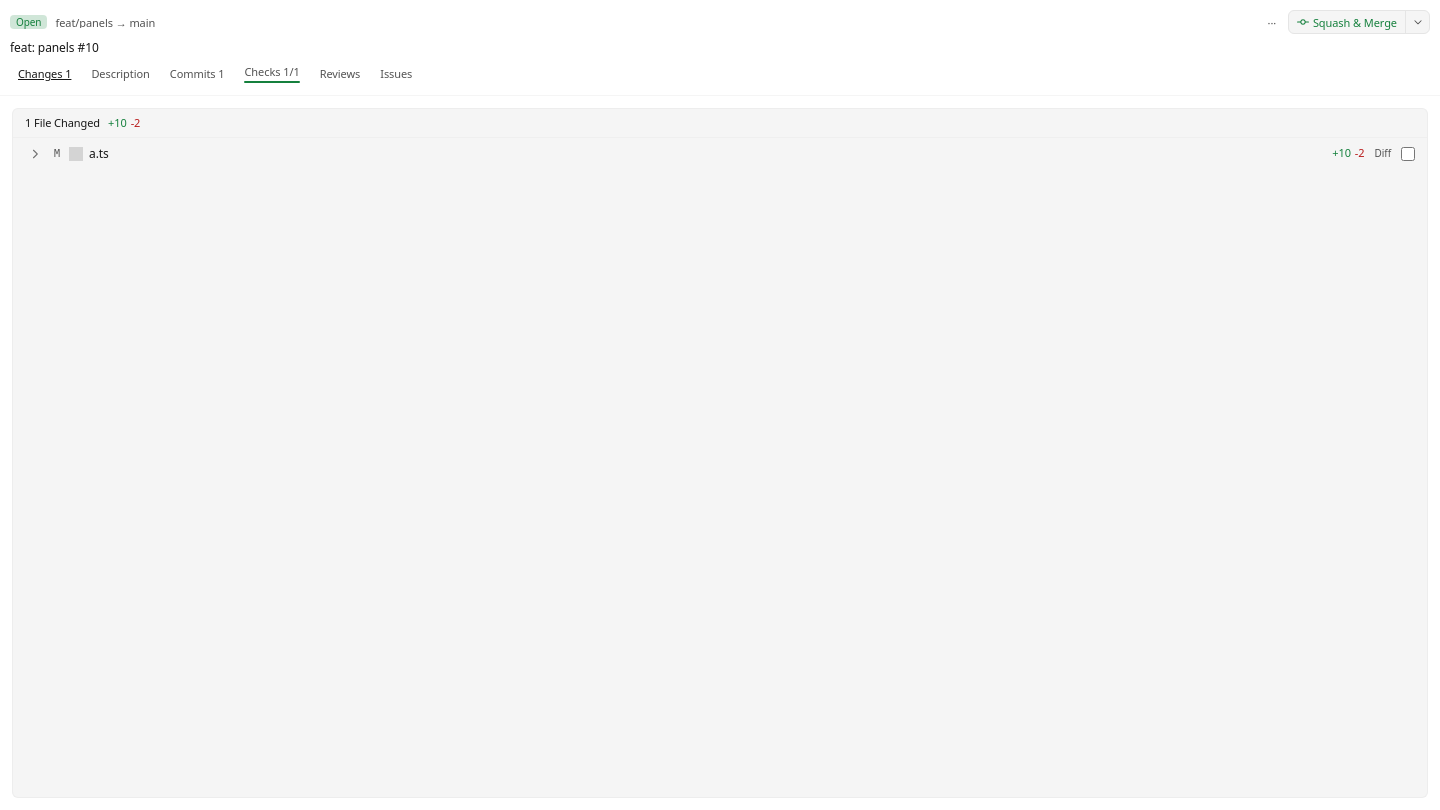
Scenario: PrPanel › shows Disconnect in the PR menu when an app token is present
Expected: the text "feat: panels #10" is shown, [10,39,99,56]
Click the button named "PR actions" at (1272,22), box [1260,10,1284,34]
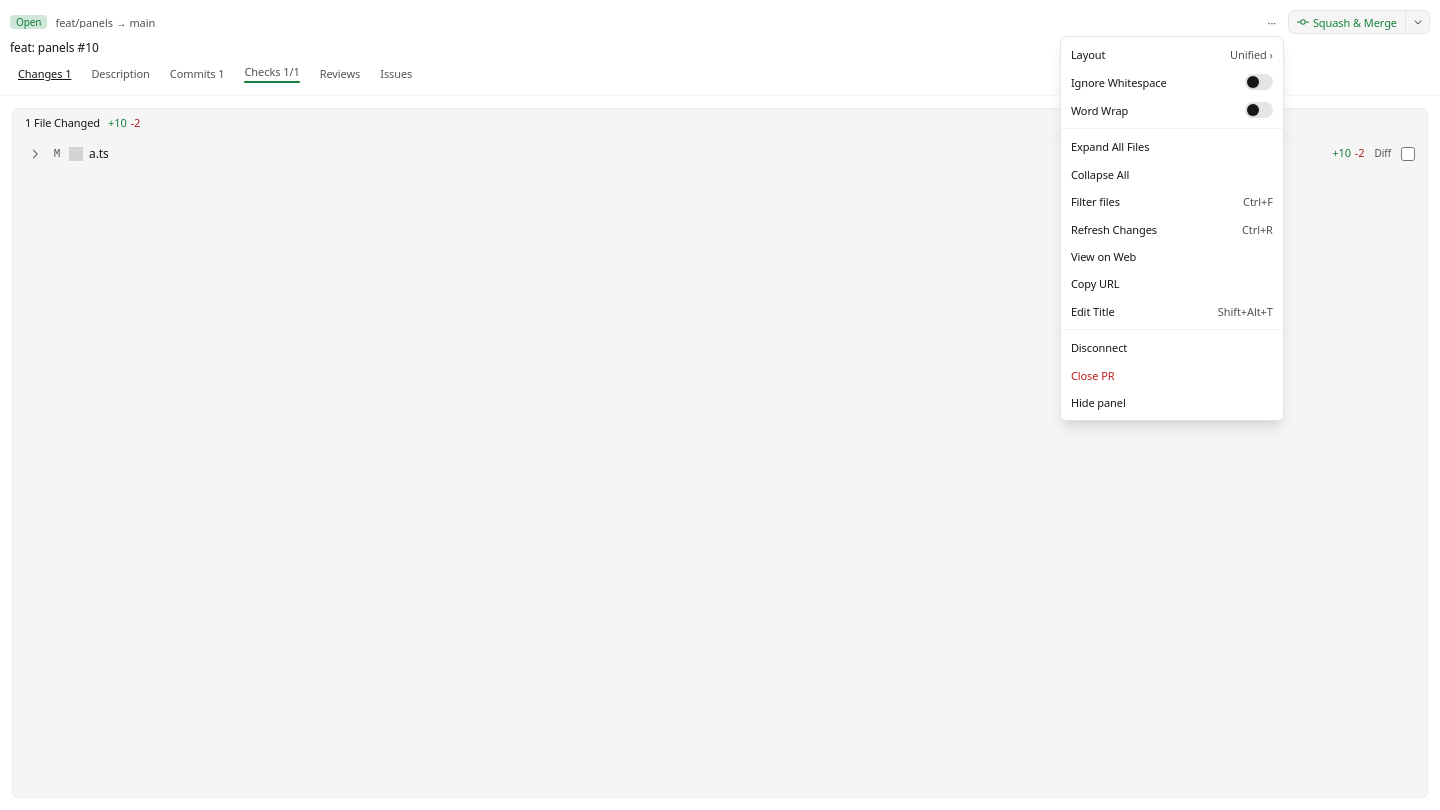
Expected: the button "Disconnect" is shown, [1061,334,1283,362]
